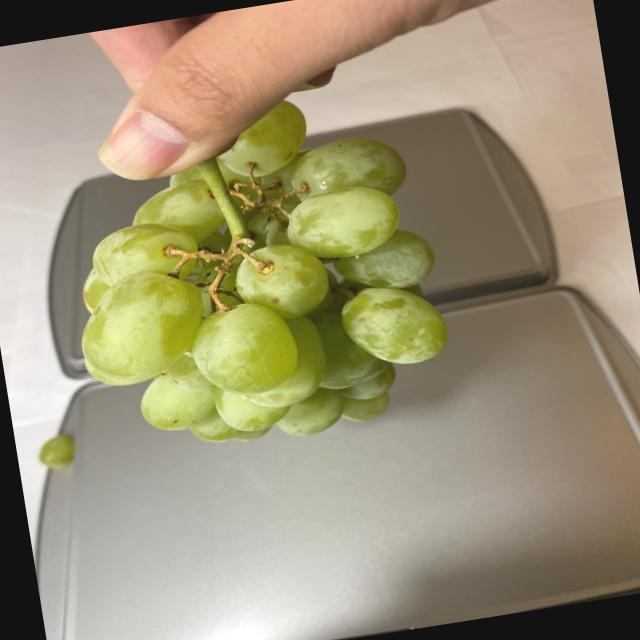grapes: (44, 78, 467, 476)
